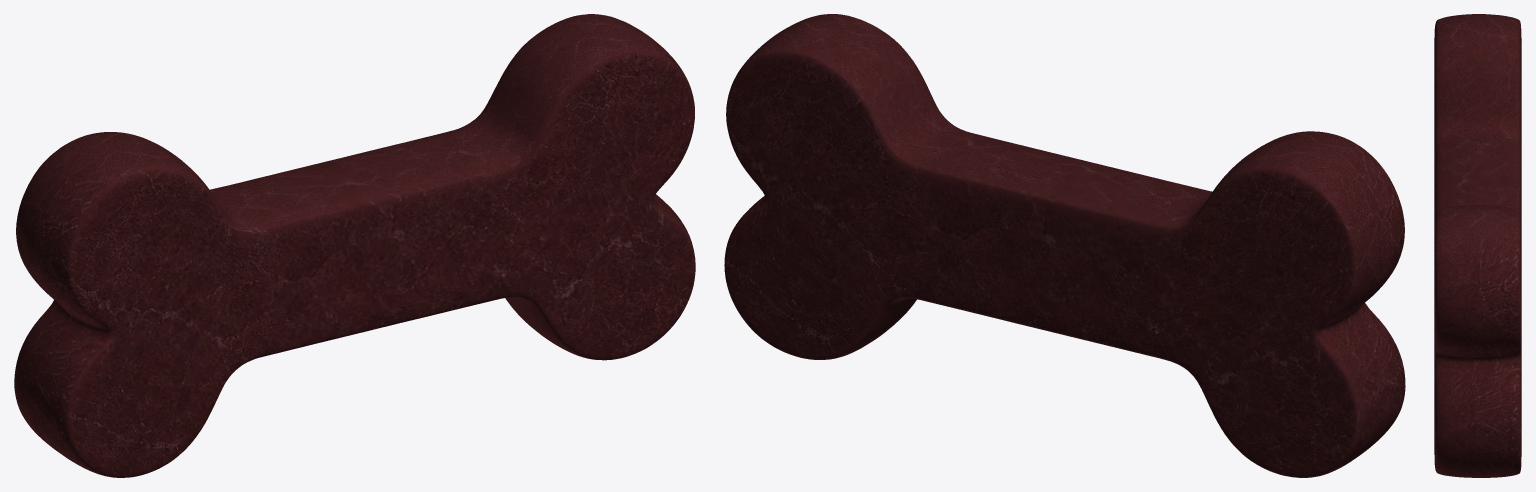
File: bone.glb
3 renders of one model, left to right at view 1: azimuth 30°, elevation 25°; view 2: azimuth 150°, elevation 25°; view 3: azimuth 270°, elevation 25°, orthographic. The views are drawn at different scales.
Size of the model in its own units: 1.9 by 0.8985 by 0.2755.
1 material, 1 textured.
